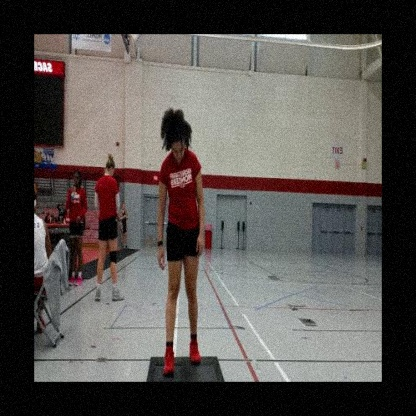lateral_flexion_left: (153, 104, 207, 375)
stance_width_normal: (153, 150, 206, 379)
